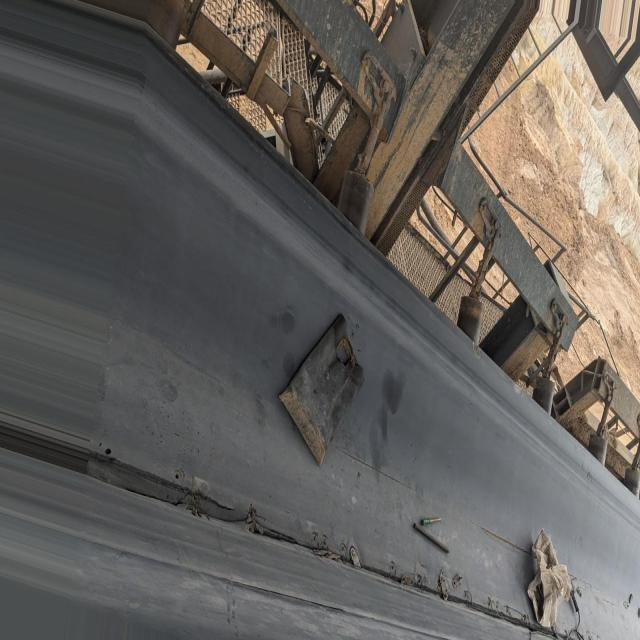Other Objects: (276, 310, 370, 464), (515, 527, 589, 626), (408, 507, 454, 563)
Roller: (343, 172, 378, 227), (455, 295, 488, 346), (586, 430, 612, 461), (624, 467, 640, 492)
Tear: (73, 438, 591, 640)
